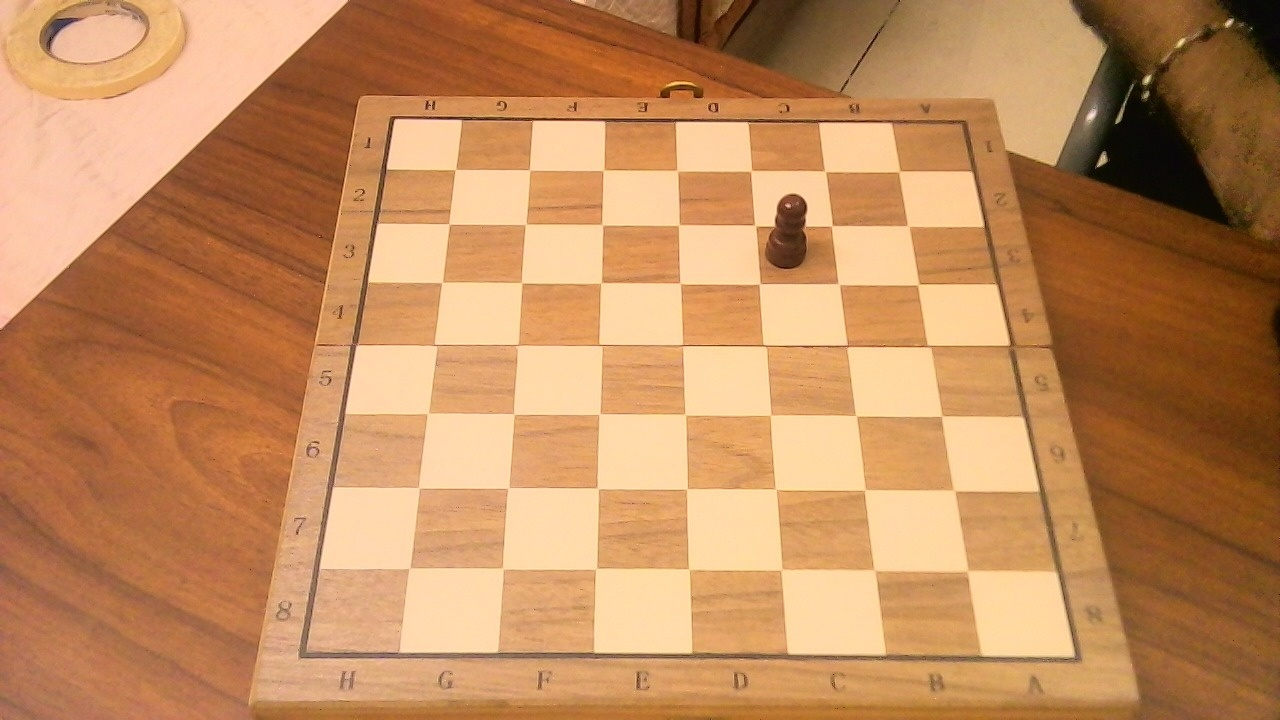p: (762, 182, 819, 273)
